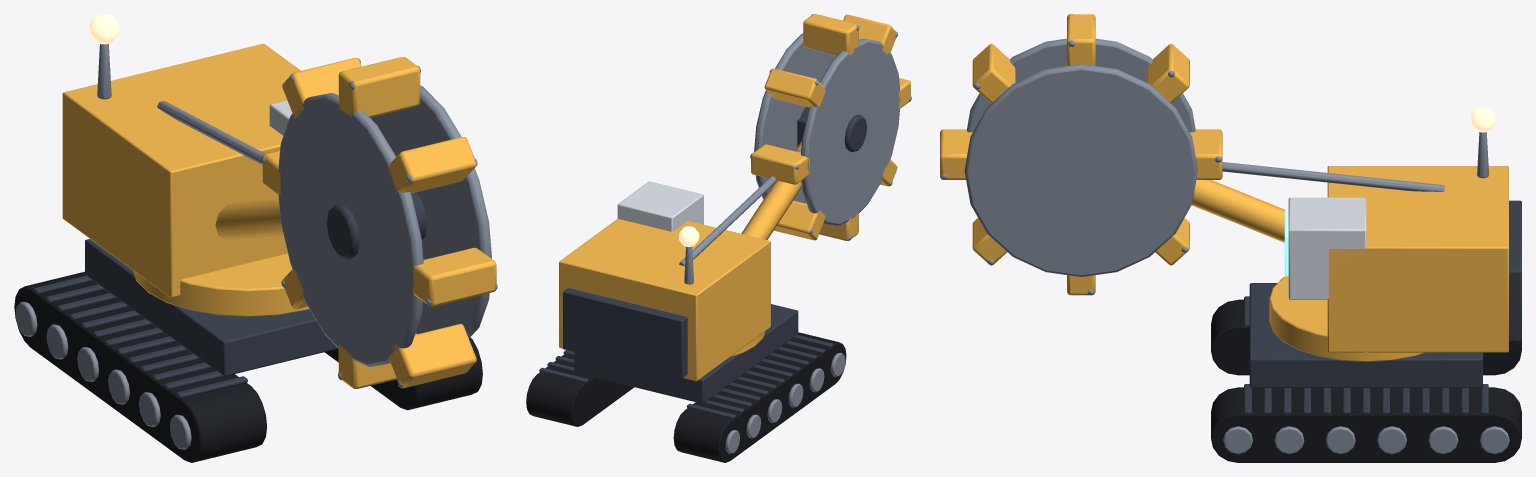
The model's file is bagger.fbx.
3 views of the same model, side by side, from view 1: azimuth 30°, elevation 25°; view 2: azimuth 150°, elevation 25°; view 3: azimuth 270°, elevation 25° (orthographic). The views are drawn at different scales.
Visible parts, largest first — view 1: bagger_Koerper, bagger_Dreh; view 2: bagger_Koerper, bagger_Dreh; view 3: bagger_Koerper, bagger_Dreh.
Boxes of the visible parts, box(x1,y1,x2,y2) form: bagger_Koerper: box(14, 14, 482, 462); bagger_Dreh: box(261, 57, 497, 388); bagger_Koerper: box(526, 113, 846, 462); bagger_Dreh: box(750, 14, 911, 240); bagger_Koerper: box(1192, 107, 1521, 462); bagger_Dreh: box(940, 14, 1222, 295).
Size of the model in its own units: 2.19 by 3.09 by 4.49.
